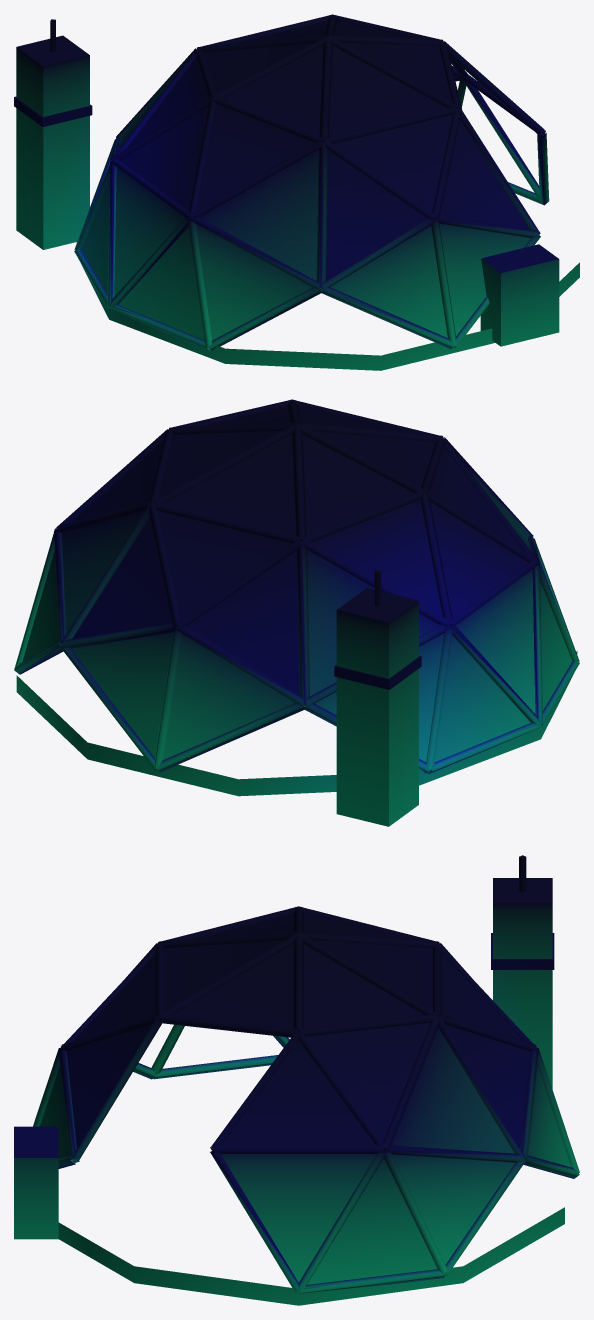
The model's file is geodesicdome_damaged.glb.
The picture shows the model from 3 angles, top to bottom: view 1: azimuth 30°, elevation 25°; view 2: azimuth 150°, elevation 25°; view 3: azimuth 270°, elevation 25°; orthographic projection. The views are drawn at different scales.
Visible parts, largest first — view 1: lod0; view 2: lod0; view 3: lod0.
Boxes of the visible parts, x1,y1,x2,y2 form: lod0: (14,14,579,370); lod0: (14,399,579,826); lod0: (14,855,579,1305).
Size of what is drawn, in the model's own units: 15.07 by 7.54 by 15.16.
